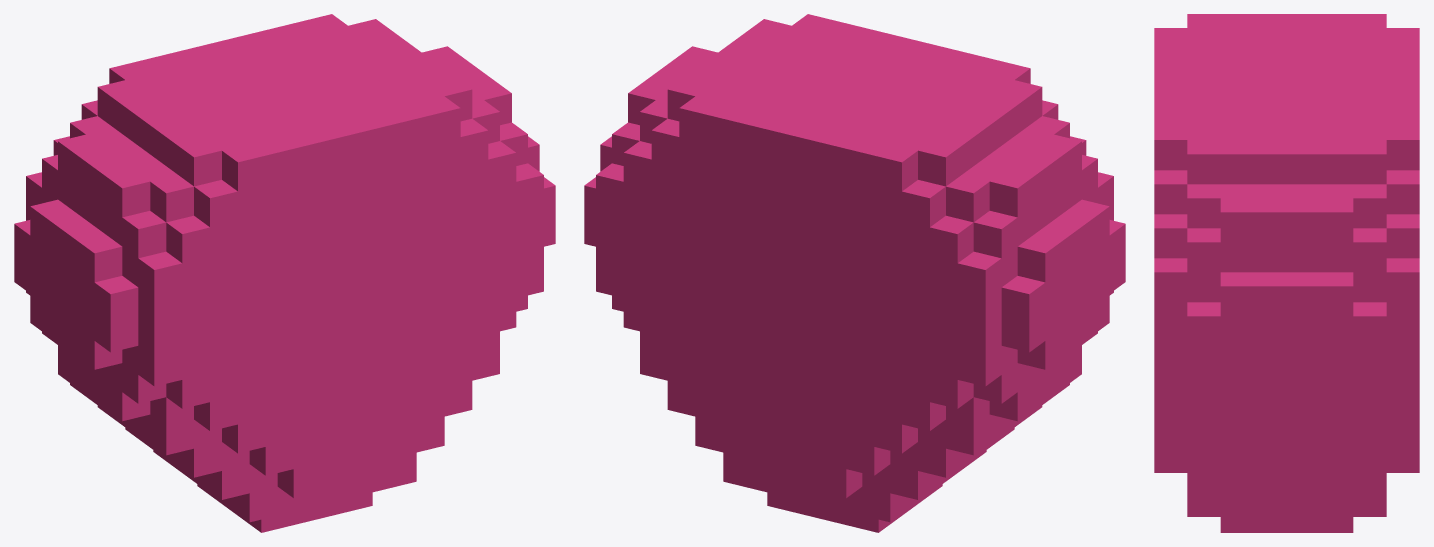
Rendered from HP_Drop.obj.
3 renders of one model, left to right at view 1: azimuth 30°, elevation 25°; view 2: azimuth 150°, elevation 25°; view 3: azimuth 270°, elevation 25°, orthographic. The views are drawn at different scales.
Bounding box in the file's own units: 16 × 14 × 8.
Materials: 1 (1 with a texture image).
